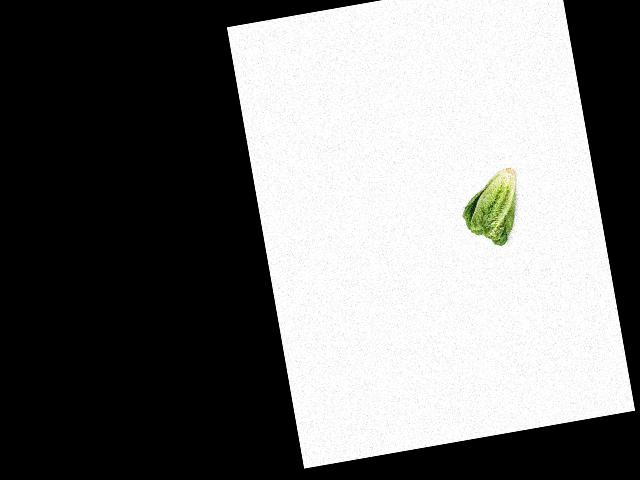lettuce: (455, 165, 528, 250)
